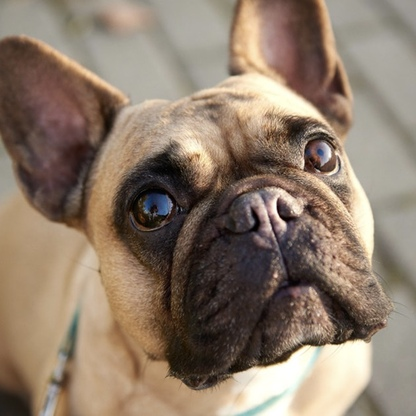bulldog: (7, 5, 395, 416)
